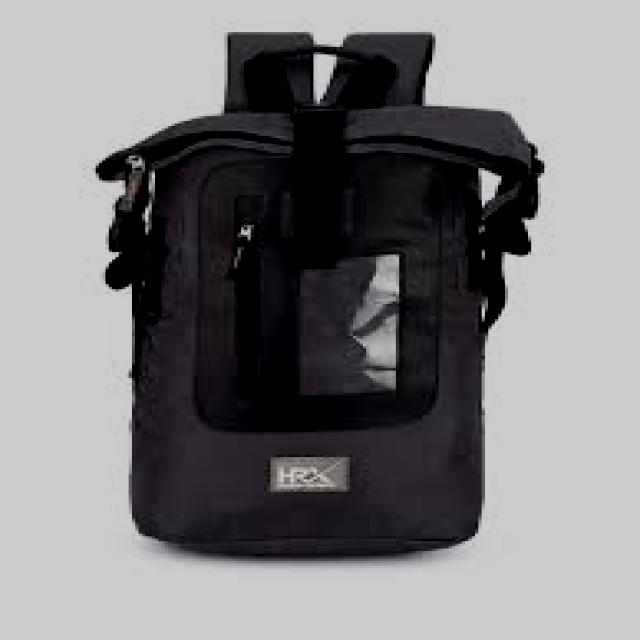backpack: (94, 31, 546, 557)
